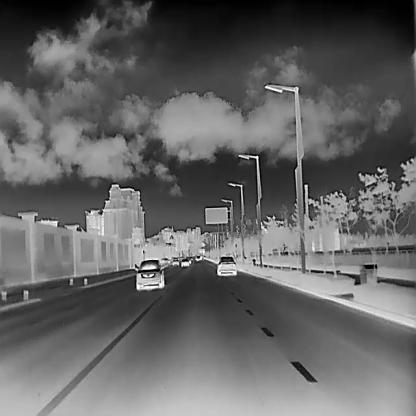car: (134, 260, 164, 288), (216, 255, 236, 275), (180, 256, 189, 266), (171, 256, 178, 264), (194, 254, 201, 260)
